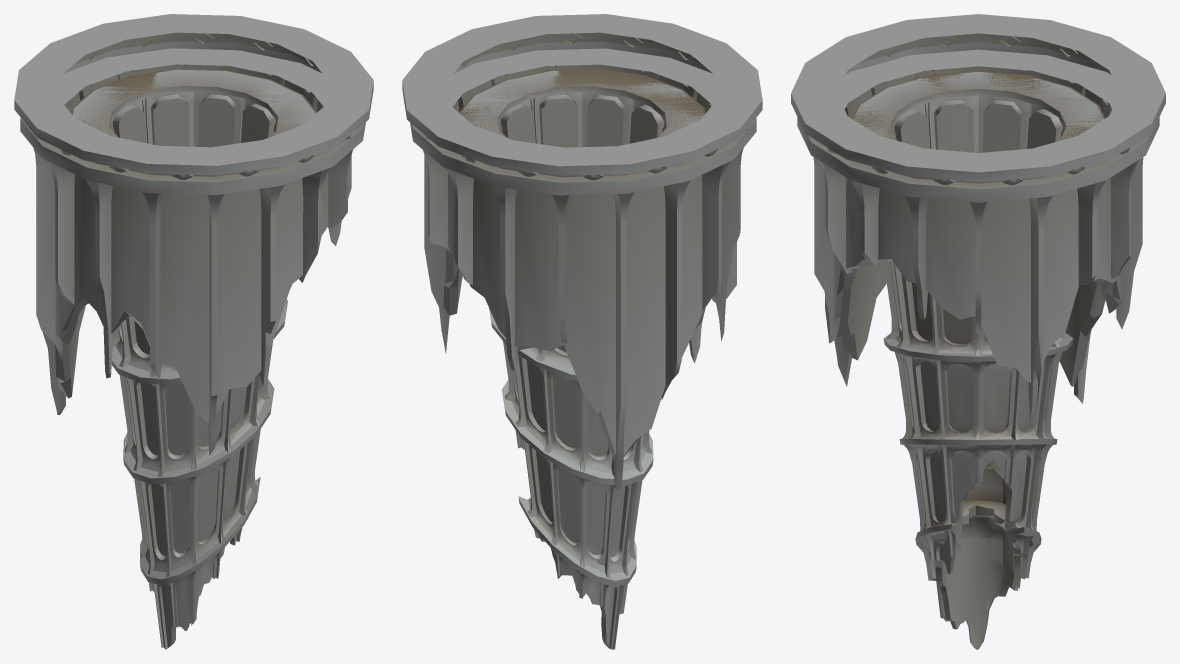
The picture shows the model from 3 angles, left to right: view 1: azimuth 30°, elevation 25°; view 2: azimuth 150°, elevation 25°; view 3: azimuth 270°, elevation 25°; orthographic projection. The views are drawn at different scales.
Parts seen in each view (by area): view 1: G:\FFXIV-MapTools\exports\d2f3\bg\ex1\02_dra_d2\fld\d2f3\bgp (×6); view 2: G:\FFXIV-MapTools\exports\d2f3\bg\ex1\02_dra_d2\fld\d2f3\bgp (×6); view 3: G:\FFXIV-MapTools\exports\d2f3\bg\ex1\02_dra_d2\fld\d2f3\bgp (×6).
Part boxes in pixels (left/top/right/bottom): G:\FFXIV-MapTools\exports\d2f3\bg\ex1\02_dra_d2\fld\d2f3\bgp (×6): left=14, top=14, right=373, bottom=649; G:\FFXIV-MapTools\exports\d2f3\bg\ex1\02_dra_d2\fld\d2f3\bgp (×6): left=402, top=14, right=762, bottom=649; G:\FFXIV-MapTools\exports\d2f3\bg\ex1\02_dra_d2\fld\d2f3\bgp (×6): left=791, top=14, right=1165, bottom=649.
Bounding box in the file's own units: 51.66 × 86.81 × 51.66.
